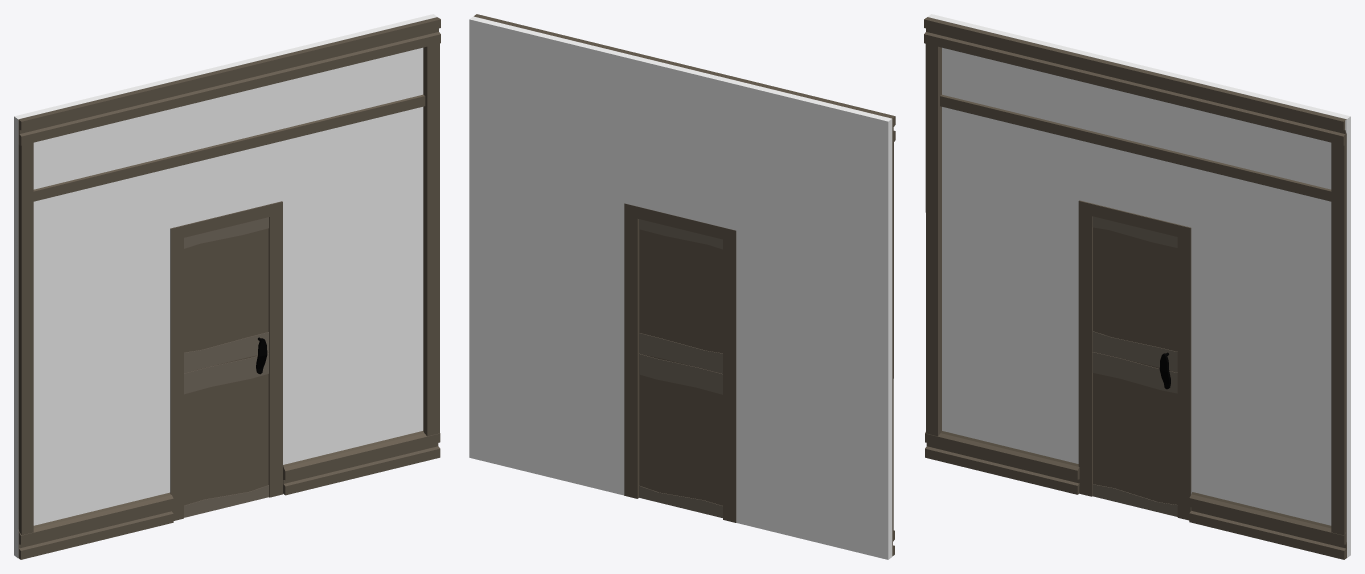
File: DOOR_05_1.glb
3 renders of one model, left to right at view 1: azimuth 30°, elevation 25°; view 2: azimuth 150°, elevation 25°; view 3: azimuth 330°, elevation 25°, orthographic.
Parts seen in each view (by area): view 1: DOOR_05_1; view 2: DOOR_05_1; view 3: DOOR_05_1.
Part boxes in pixels (x1,y1,x2,y2): DOOR_05_1: (14,14,440,559); DOOR_05_1: (469,14,895,559); DOOR_05_1: (924,14,1350,559).
Size of the model in its own units: 3 by 3 by 0.1082.
Materials: 1 (1 with a texture image).
